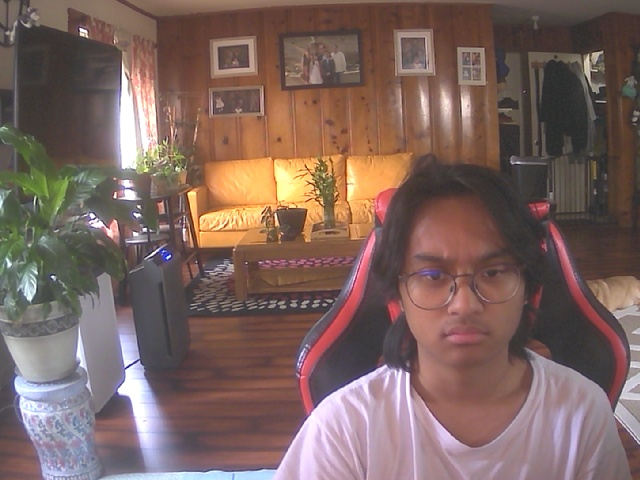anger: (390, 172, 537, 369)
